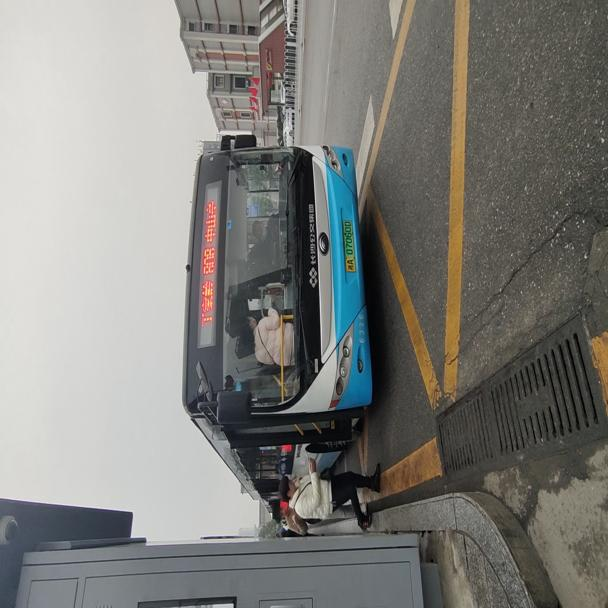bus: (177, 128, 373, 504)
screen: (199, 244, 215, 280)
